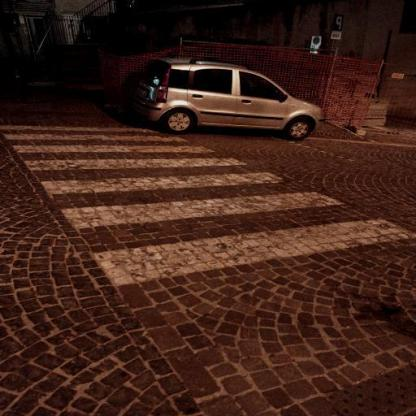crosswalk: (29, 168, 349, 237), (0, 132, 223, 157)
